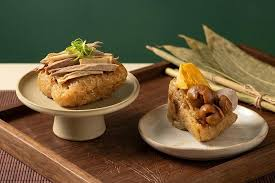zongzi: (36, 39, 126, 106), (168, 64, 237, 140)
